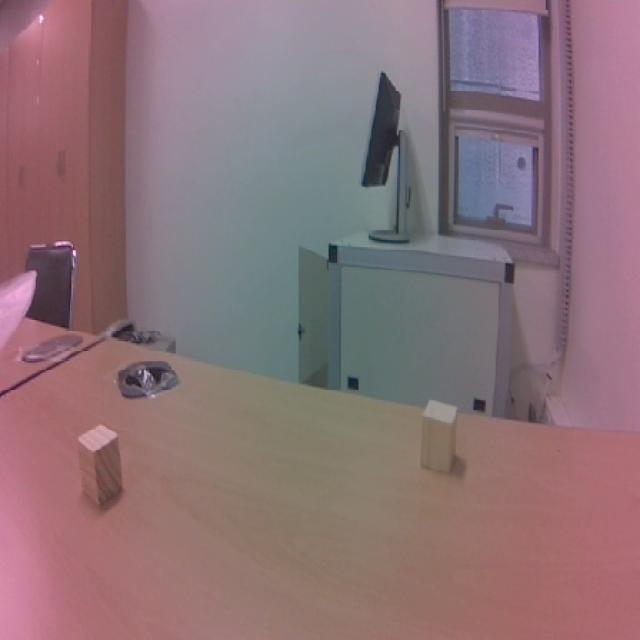obstacle: (408, 396, 470, 480), (74, 419, 130, 511)
